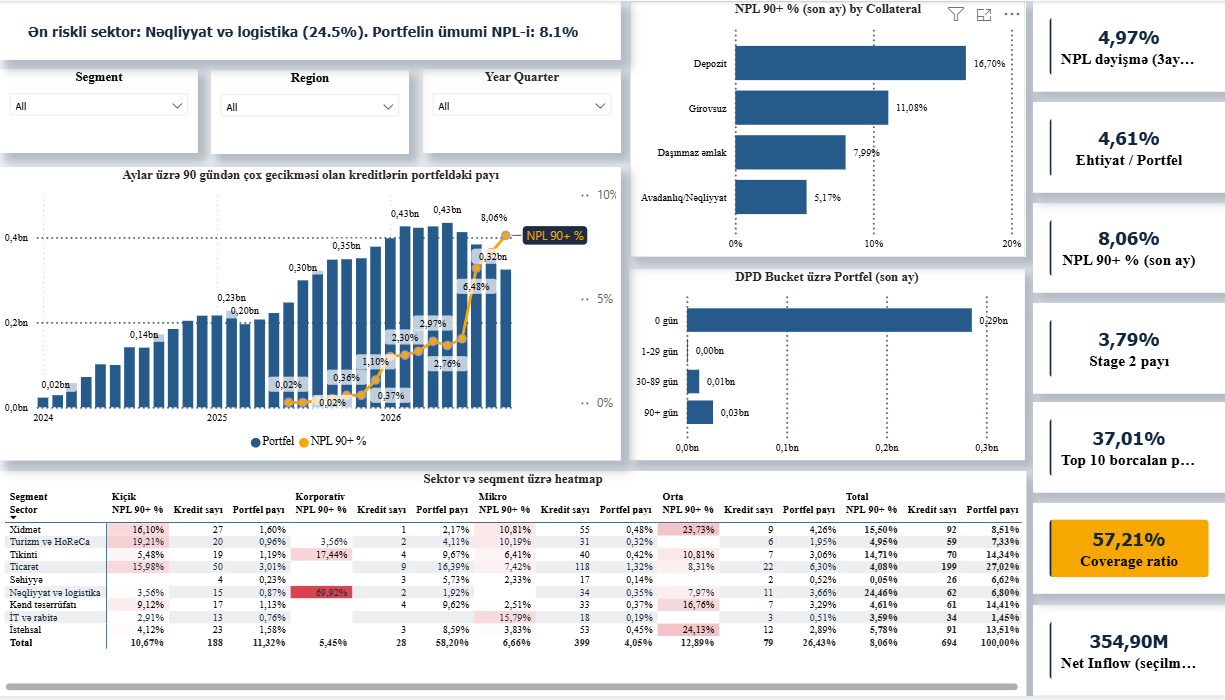

What the dashboard file says about the page in this screenshot:
{"tool":"powerbi","page":{"name":"Risk","canvas":[1280,720],"ordinal":0},"visuals":[{"type":"slicer","title":"Year Quarter","fields":{"Values":["DimDate.YearQuarter"]},"box":[448.5,70,205,87],"z":1000},{"type":"slicer","title":"Segment","fields":{"Values":["DimCustomer.Segment"]},"box":[10,70,205,87],"z":2000},{"type":"slicer","title":"Region","fields":{"Values":["DimCustomer.Region"]},"box":[229.3,71,205,87],"z":3000},{"type":"clusteredBarChart","title":"DPD Bucket üzrə Portfel (son ay)","fields":{"Category":["FactLoanMonthly.DPD Bucket"],"Y":["Table.Portfel (son ay)"]},"box":[662,277.5,410,198.3],"z":4000},{"type":"pivotTable","title":"Sektor və seqment üzrə heatmap","fields":{"Columns":["DimCustomer.Segment"],"Rows":["DimCustomer.Sector"],"Values":["Table.NPL 90+ %","Table.Kredit sayı","Table.Portfel payı"]},"box":[10,486.7,1062.6,232.9],"z":7000},{"type":"clusteredBarChart","fields":{"Category":["DimLoan.Collateral"],"Y":["Table.NPL 90+ % (son ay)"]},"box":[662.3,0,410,264.7],"z":12000},{"type":"cardVisual","fields":{"Data":["Table.Insight"]},"box":[10,0,643.2,61],"z":14000},{"type":"cardVisual","fields":{"Data":["Table.NPL 90+ % (son ay)"]},"box":[1080.2,208.8,199.8,93.4],"z":15000},{"type":"cardVisual","fields":{"Data":["Table.NPL dəyişmə (3 ay)"]},"box":[1080.2,0,199.8,94.4],"z":16000},{"type":"cardVisual","fields":{"Data":["Table.Ehtiyat / Portfel"]},"box":[1080.2,104.4,199.8,94.4],"z":17000},{"type":"cardVisual","fields":{"Data":["Table.Net Inflow"]},"box":[1080.2,625.4,199.8,94.4],"z":18000},{"type":"cardVisual","fields":{"Data":["Table.Stage 2 payı"]},"box":[1080,312.6,199.8,94.4],"z":19000},{"type":"cardVisual","fields":{"Data":["Table.Top 10 borcalan payı"]},"box":[1080.2,415.6,199.8,94.4],"z":20000},{"type":"cardVisual","fields":{"Data":["Table.Coverage ratio"]},"box":[1080.2,520,199.8,94.4],"z":21000},{"type":"lineClusteredColumnComboChart","title":"Aylar üzrə 90 gündən çox gecikməsi olan kreditlərin portfeldəki payı","fields":{"Category":["DimDate.Month"],"Y":["Table.Portfel"],"Y2":["Table.NPL 90+ %"]},"box":[10,171.9,643.2,303.9],"z":22000}]}

Visuals, with their boxes in screenshot pixels (x1, y1, x2, y2), scaled from the page's 1280x720 canvas onto the 1225x700 screenshot:
"Year Quarter" slicer: l=429, t=68, r=625, b=153
"Segment" slicer: l=10, t=68, r=206, b=153
"Region" slicer: l=219, t=69, r=416, b=154
"DPD Bucket üzrə Portfel (son ay)" clusteredBarChart: l=634, t=270, r=1026, b=463
"Sektor və seqment üzrə heatmap" pivotTable: l=10, t=473, r=1027, b=699
clusteredBarChart - DimLoan.Collateral x Table.NPL 90+ % (son ay): l=634, t=0, r=1026, b=257
cardVisual - Table.Insight: l=10, t=0, r=625, b=59
cardVisual - Table.NPL 90+ % (son ay): l=1034, t=203, r=1224, b=294
cardVisual - Table.NPL dəyişmə (3 ay): l=1034, t=0, r=1224, b=92
cardVisual - Table.Ehtiyat / Portfel: l=1034, t=102, r=1224, b=193
cardVisual - Table.Net Inflow: l=1034, t=608, r=1224, b=699
cardVisual - Table.Stage 2 payı: l=1034, t=304, r=1224, b=396
cardVisual - Table.Top 10 borcalan payı: l=1034, t=404, r=1224, b=496
cardVisual - Table.Coverage ratio: l=1034, t=506, r=1224, b=597
"Aylar üzrə 90 gündən çox gecikməsi olan kreditlərin portfeldəki payı" lineClusteredColumnComboChart: l=10, t=167, r=625, b=463
